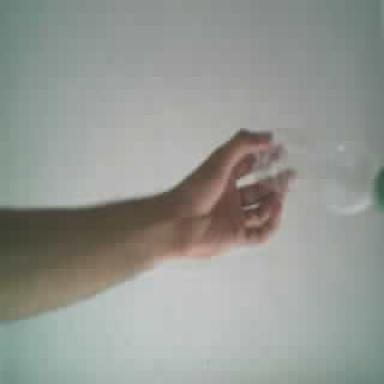bottle: (256, 130, 383, 214)
